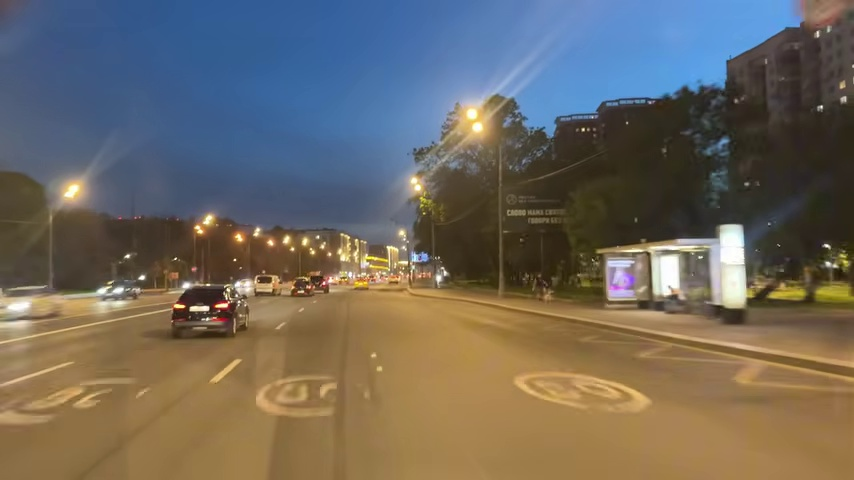acesa: (460, 104, 493, 138), (60, 179, 84, 204), (194, 213, 216, 236), (408, 176, 426, 196), (396, 229, 407, 241)
